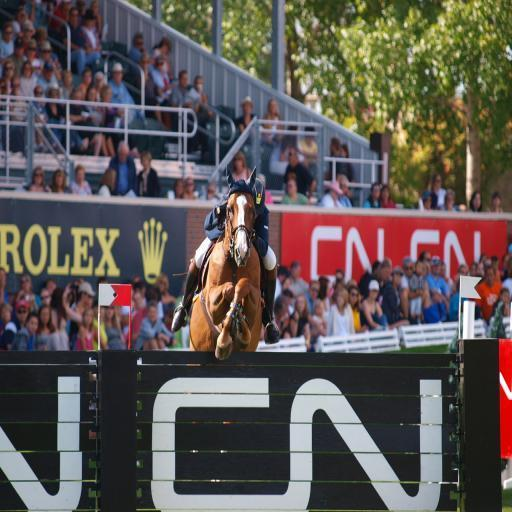horse: (186, 162, 266, 486)
